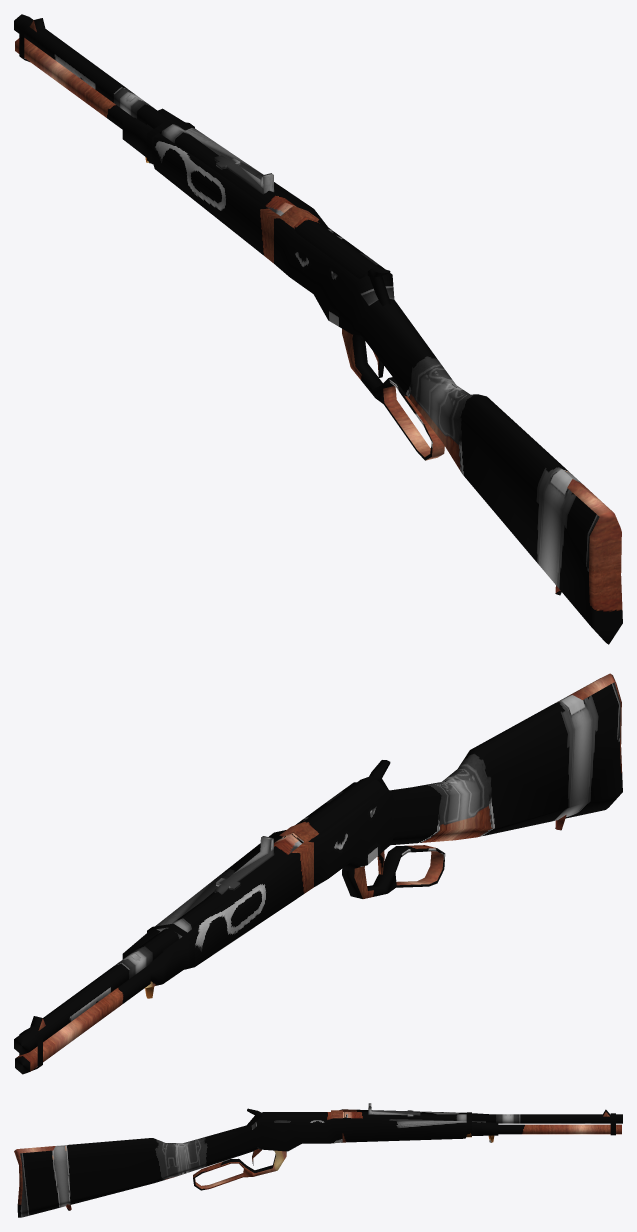
The model's file is Winchester.fbx.
3 renders of one model, top to bottom at view 1: azimuth 30°, elevation 25°; view 2: azimuth 150°, elevation 25°; view 3: azimuth 270°, elevation 25°, orthographic. The views are drawn at different scales.
Visible parts, largest first — view 1: Lever_Action_Rifle_LP; view 2: Lever_Action_Rifle_LP; view 3: Lever_Action_Rifle_LP.
Boxes of the visible parts, box(x1,y1,x2,y2) form: Lever_Action_Rifle_LP: box(14, 14, 622, 644); Lever_Action_Rifle_LP: box(14, 673, 622, 1074); Lever_Action_Rifle_LP: box(14, 1103, 622, 1217).
Bounding box in the file's own units: 0.0227 × 0.5455 × 0.1119.
